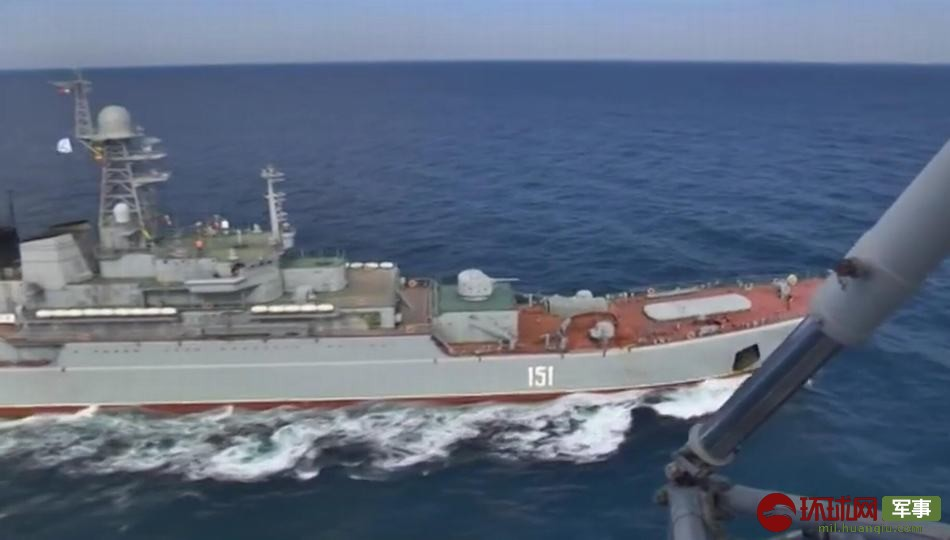warship: (1, 68, 863, 428)
